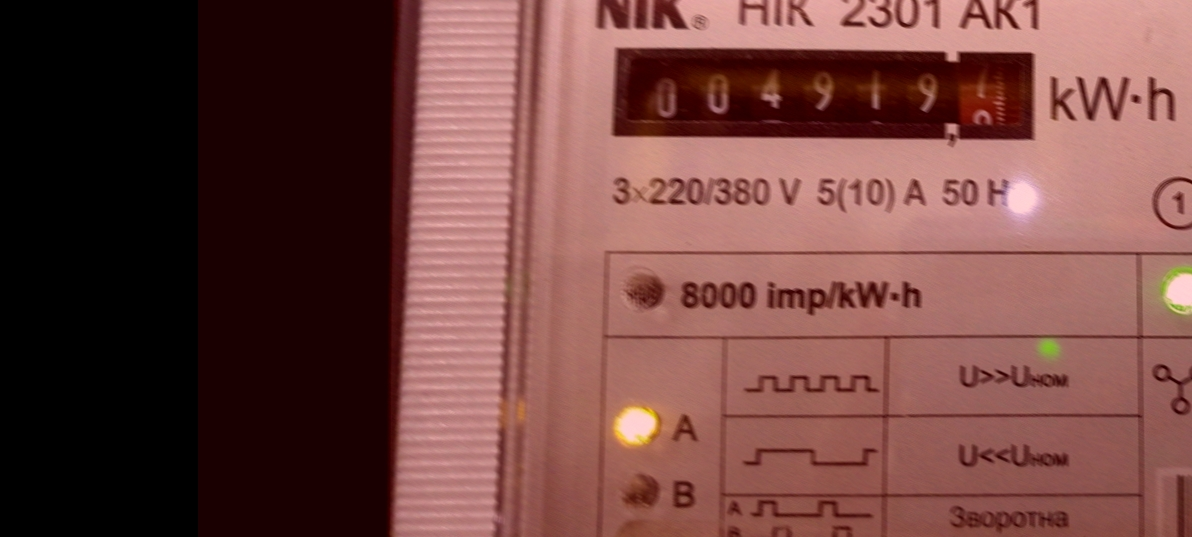0: (705, 71, 731, 116), (654, 75, 678, 119)
1: (867, 67, 883, 112)
4: (758, 66, 782, 110)
7: (968, 61, 992, 101)
9: (915, 70, 938, 116), (811, 70, 835, 114)
screen: (601, 34, 1051, 158)
